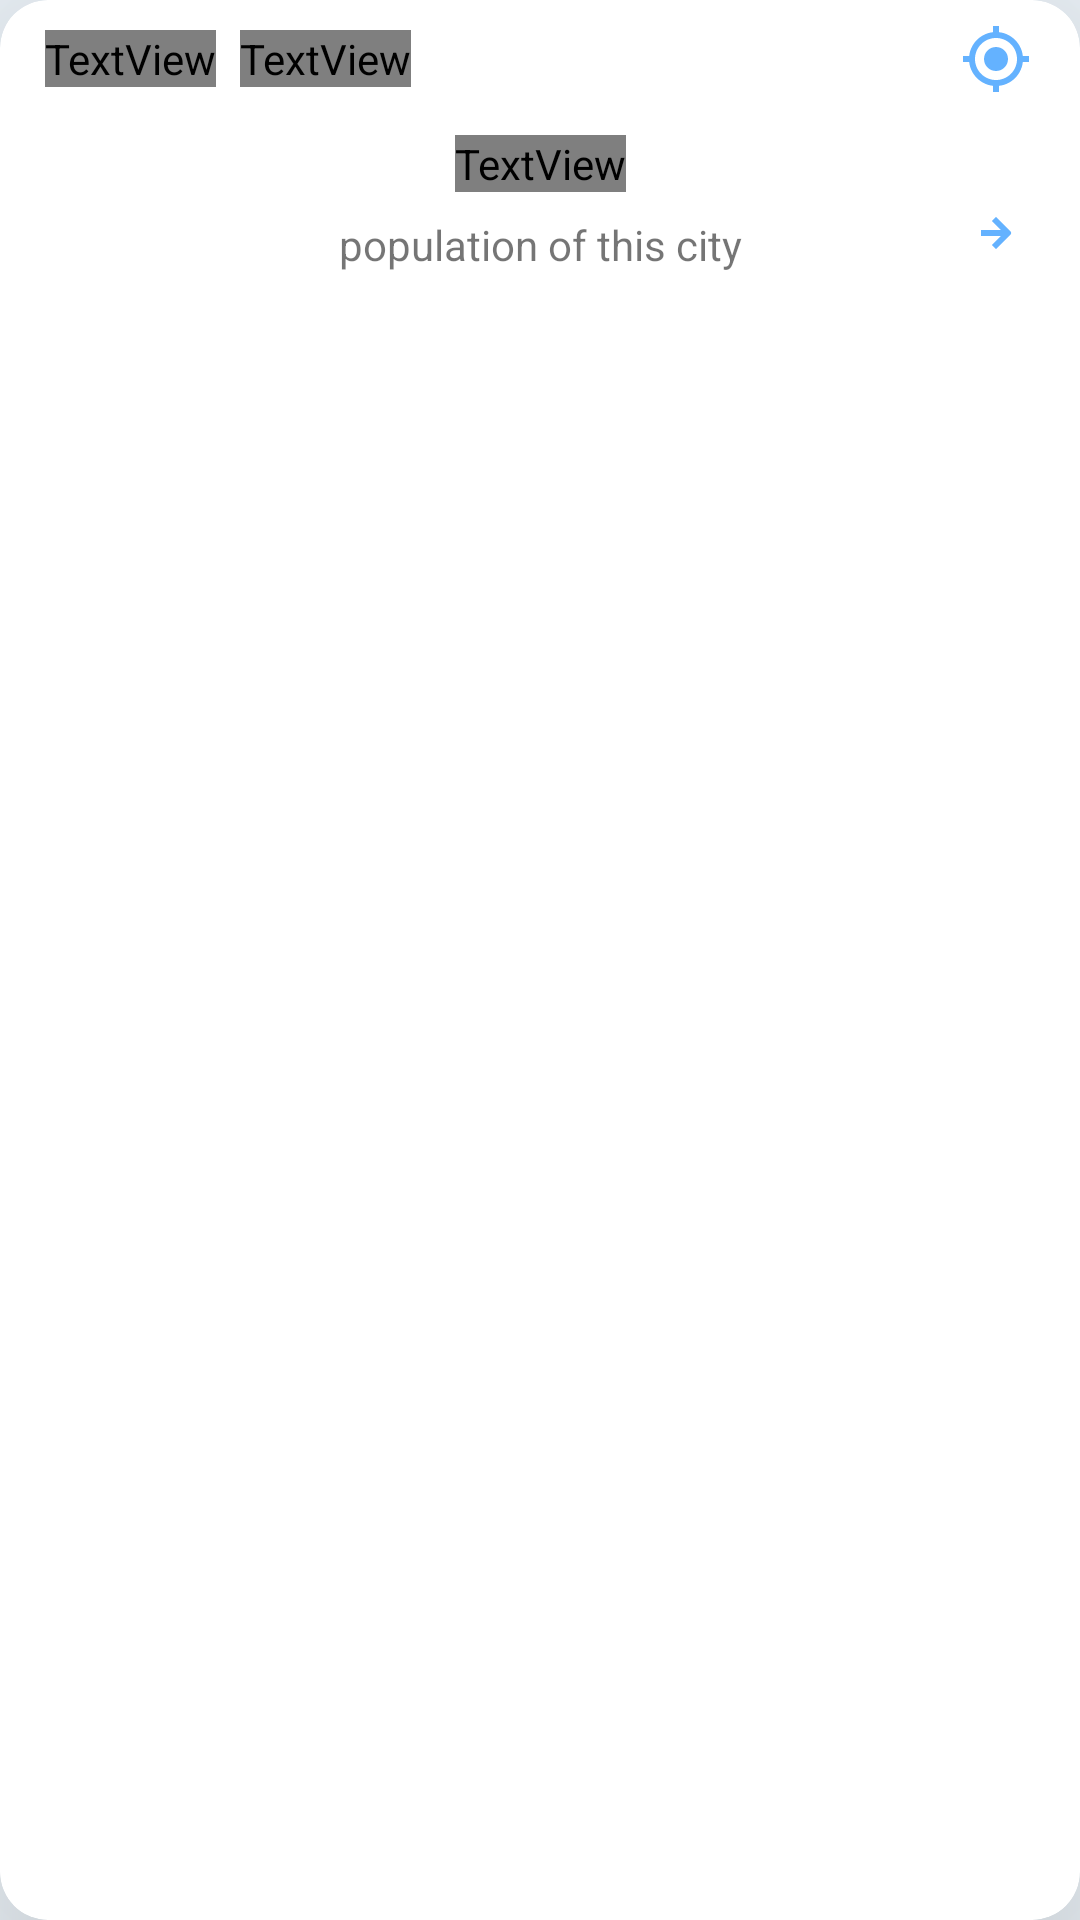

Named icons in this screenshot (1080px x 1920px) and their centers, [x,y]:
arrow right: [996,233]
location: [996,59]
